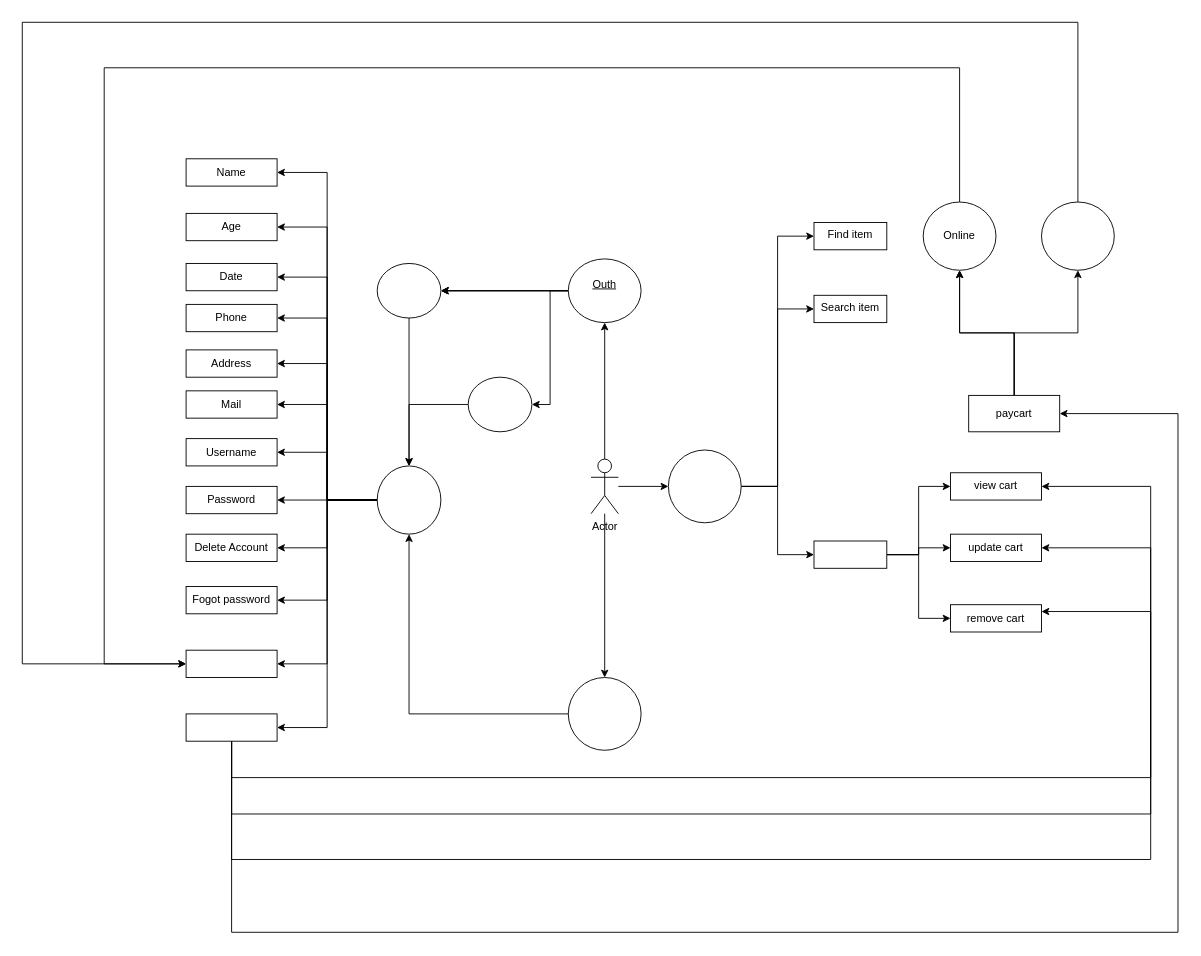
This 1201x956 diagram has some shape labels left out. Here are the shapes that lost their labels. From the top down, the centre of each, then its label:
At pixel 1077 235: "Offline".
At pixel 408 290: "Facebook".
At pixel 499 404: "Google".
At pixel 408 499: "Settings".
At pixel 704 486: "Shop".
At pixel 850 554: "Add to cart".
At pixel 231 663: "History".
At pixel 231 727: "cart".
At pixel 604 713: "Auth".
